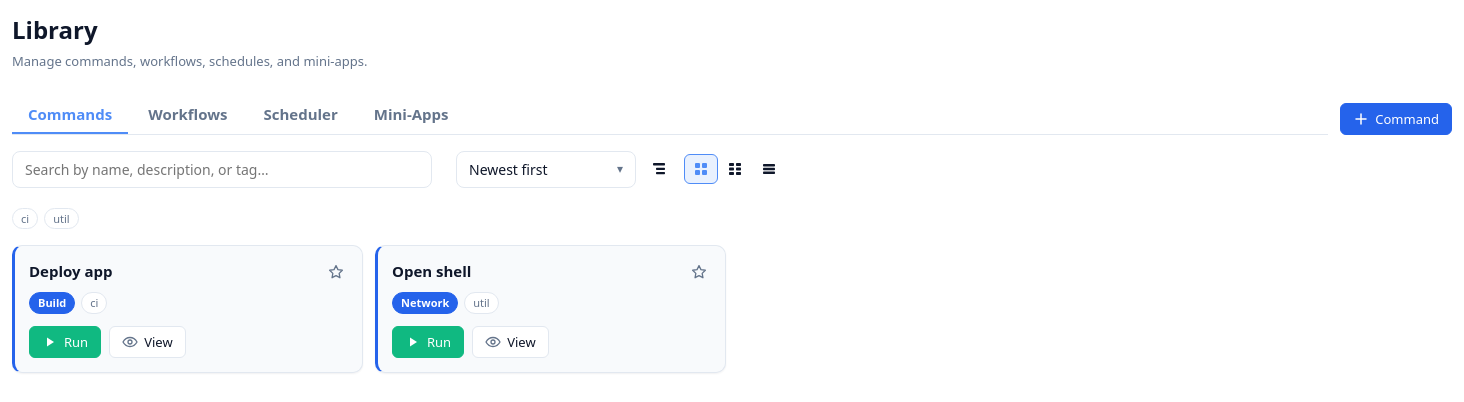
Library Commands tab — tag & category filters › Clear filters restores the full list
Click the button "ci": click(25, 218) [12, 208, 38, 228]
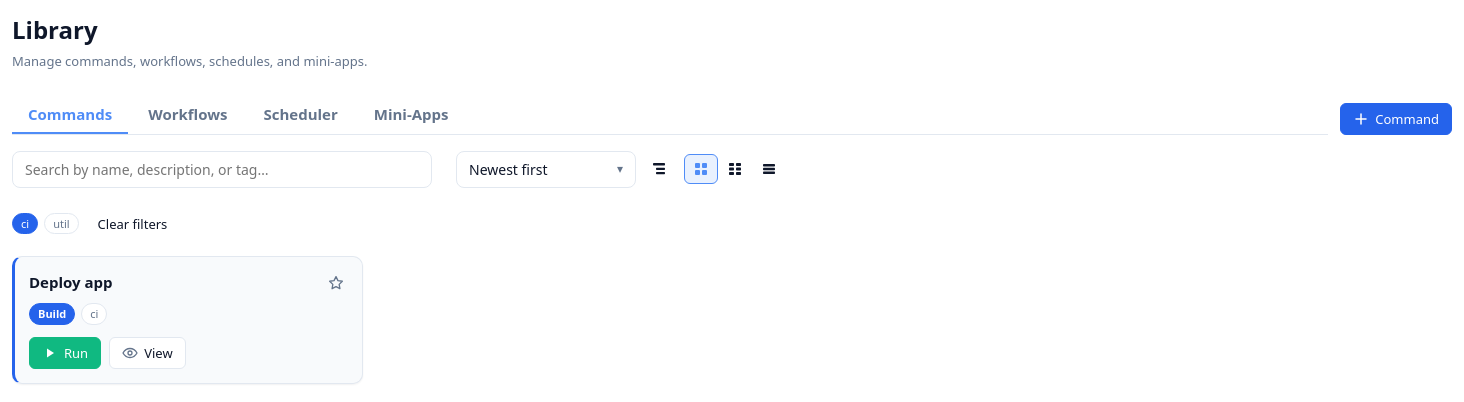
Result: the heading "Open shell" is gone
Click the button "Clear filters": click(132, 224) [85, 208, 180, 240]
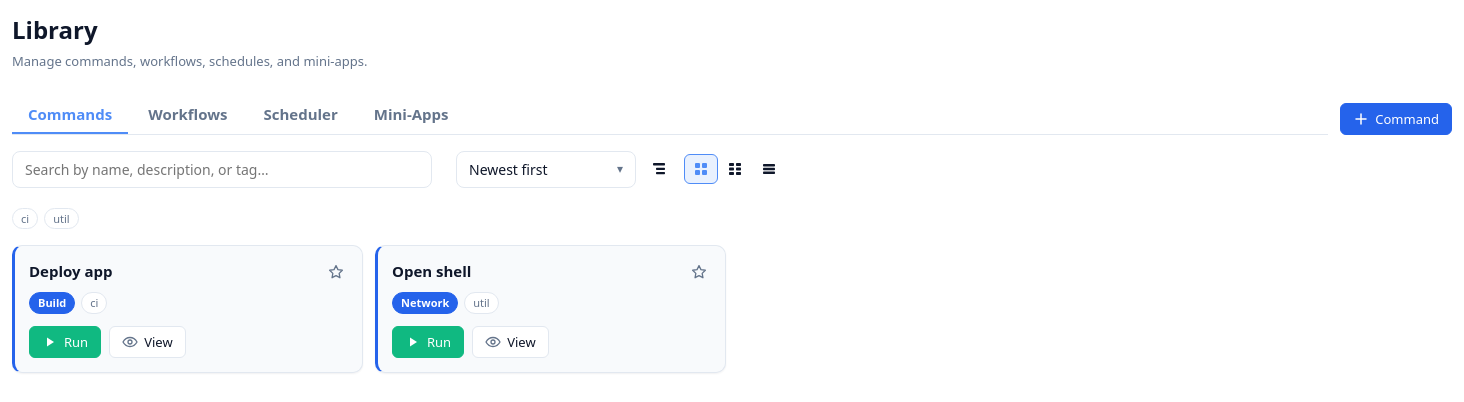
Expected: the heading "Deploy app" is shown, [29, 260, 112, 280]
Result: the heading "Open shell" is shown at [392, 260, 471, 280]
